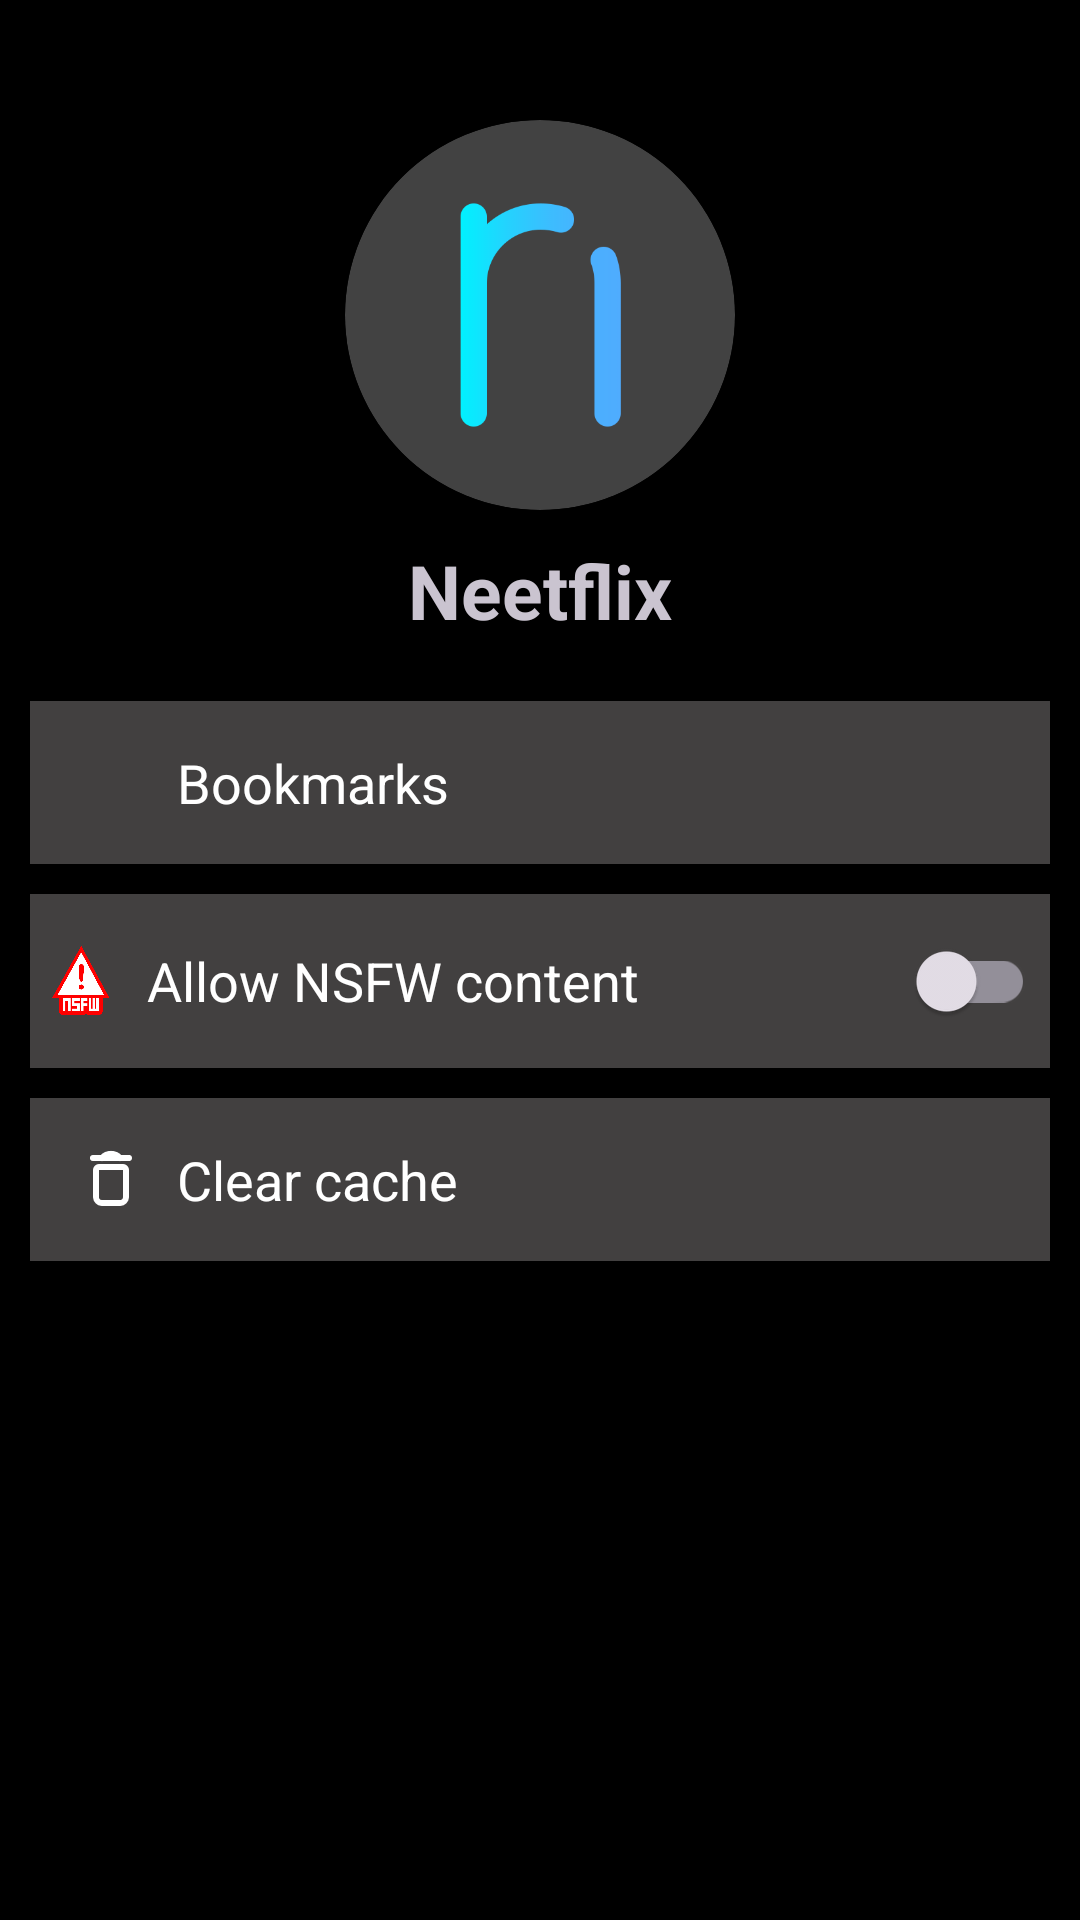

Point at icon controls on the screen. Image size 1080w x 1920h, points as [x,y].
delete: [111,1178]
